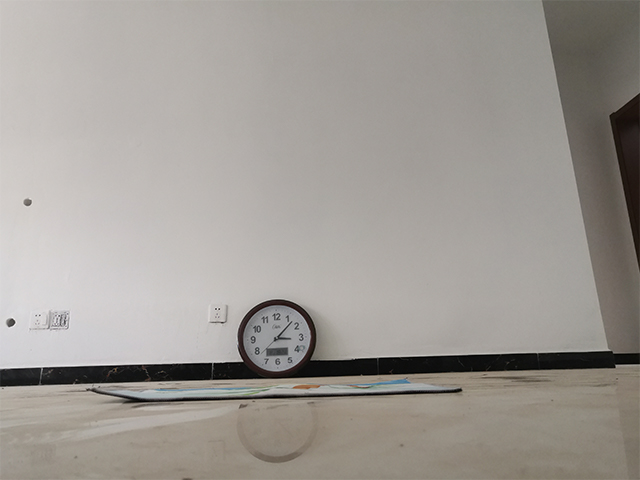carpet: (85, 377, 463, 403)
